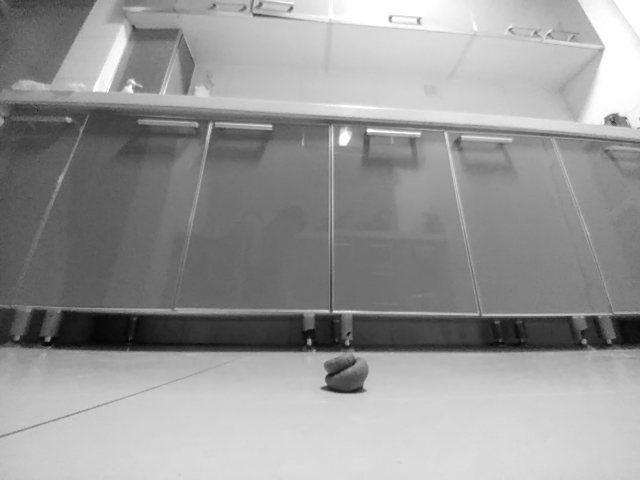pet feces: (319, 351, 370, 396)
